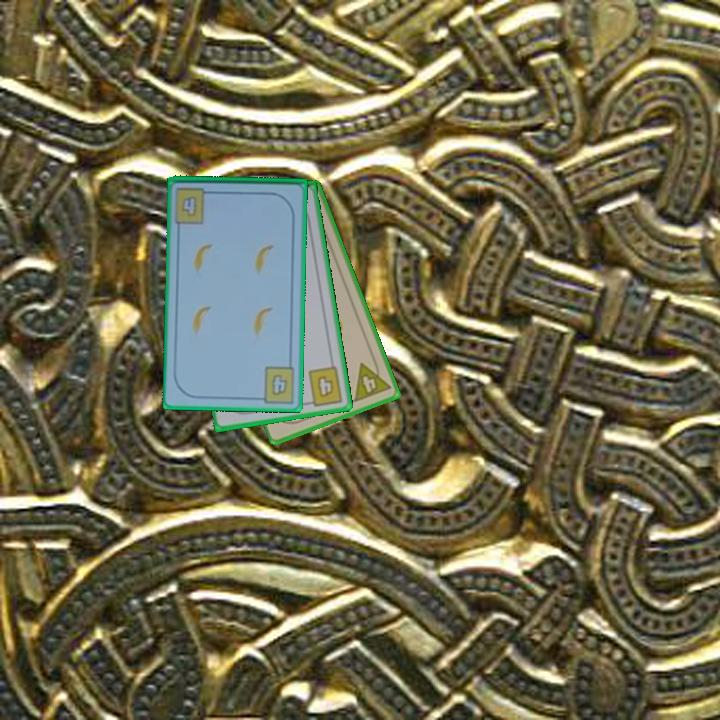4b: (302, 363, 346, 409), (254, 363, 297, 404), (178, 193, 200, 220)
4p: (351, 355, 393, 405)
